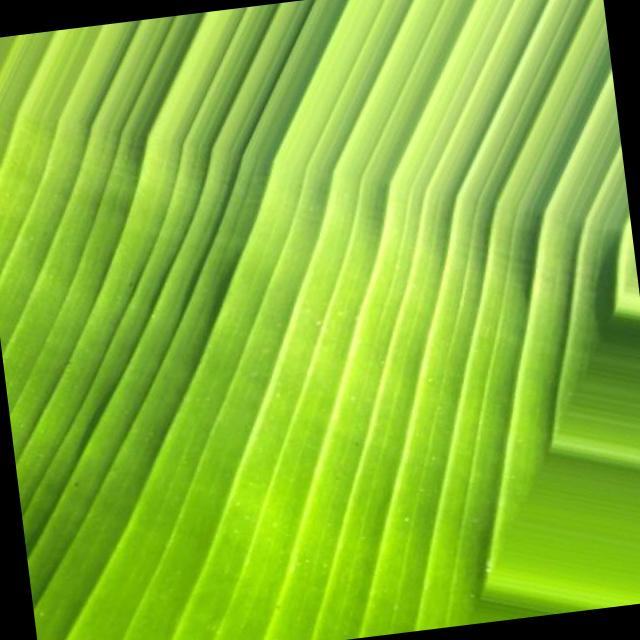Banana_Healthy: (18, 3, 640, 551)
